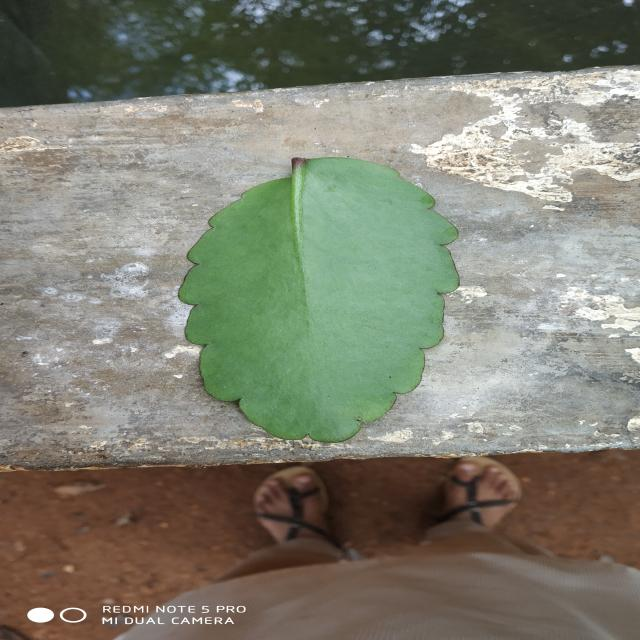spinach: (180, 158, 458, 442)
